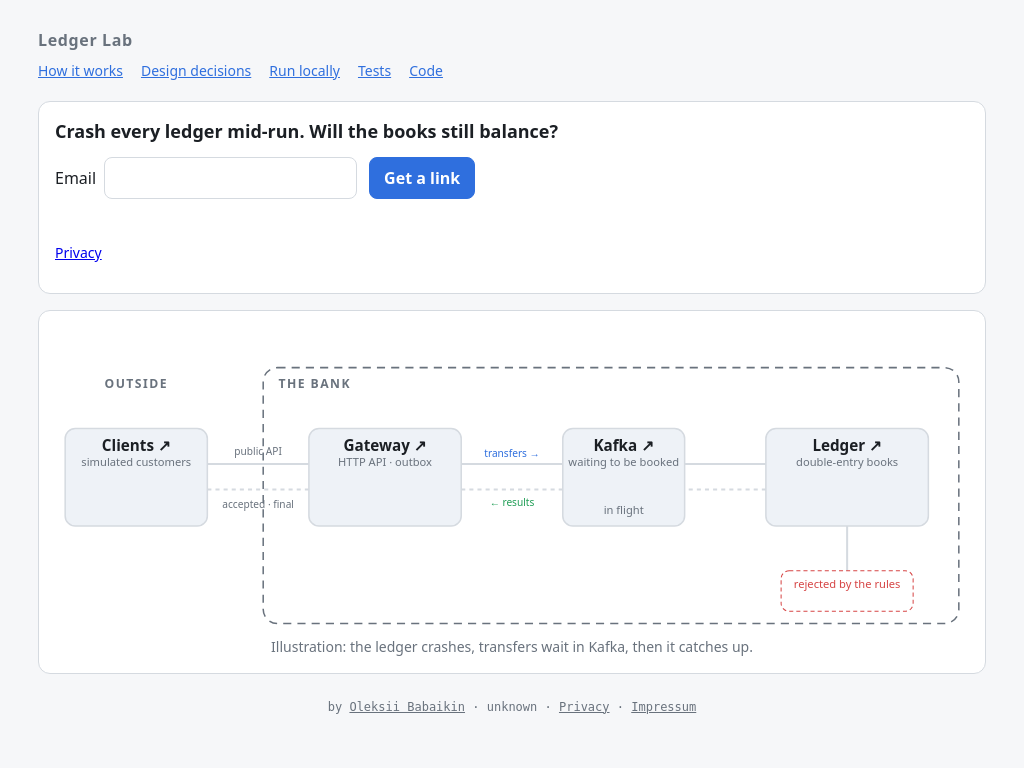
it: the link form › names a 400 in its own words and lets the visitor try again
Type "visitor@example.org" into the field labelled "Email" at (231, 178), box [104,157,357,199]
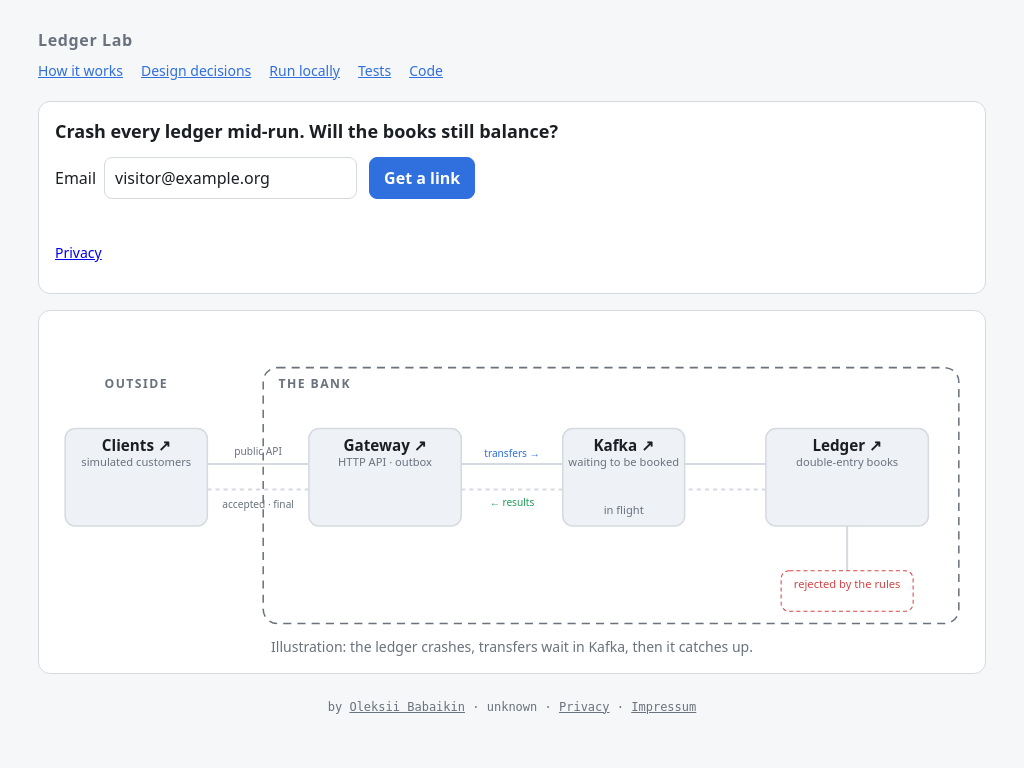
Click the button "Get a link" at (422, 178), box [369,157,475,199]
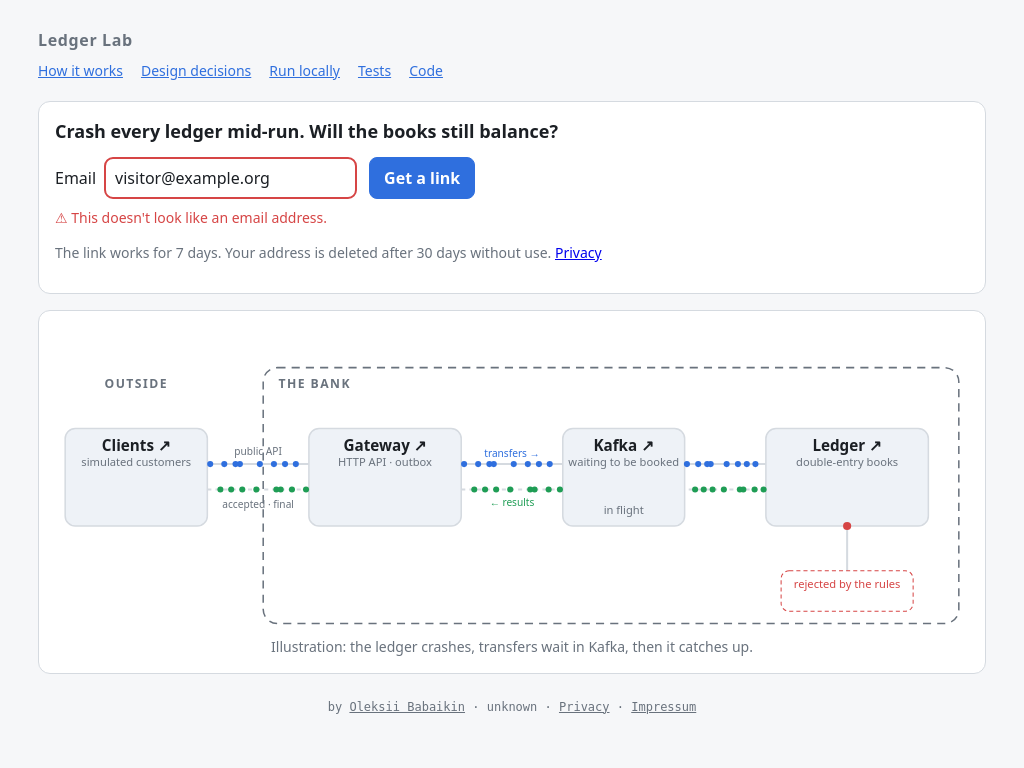
Expected: the message shows "This doesn't look like an email address.", [71,208,327,227]
